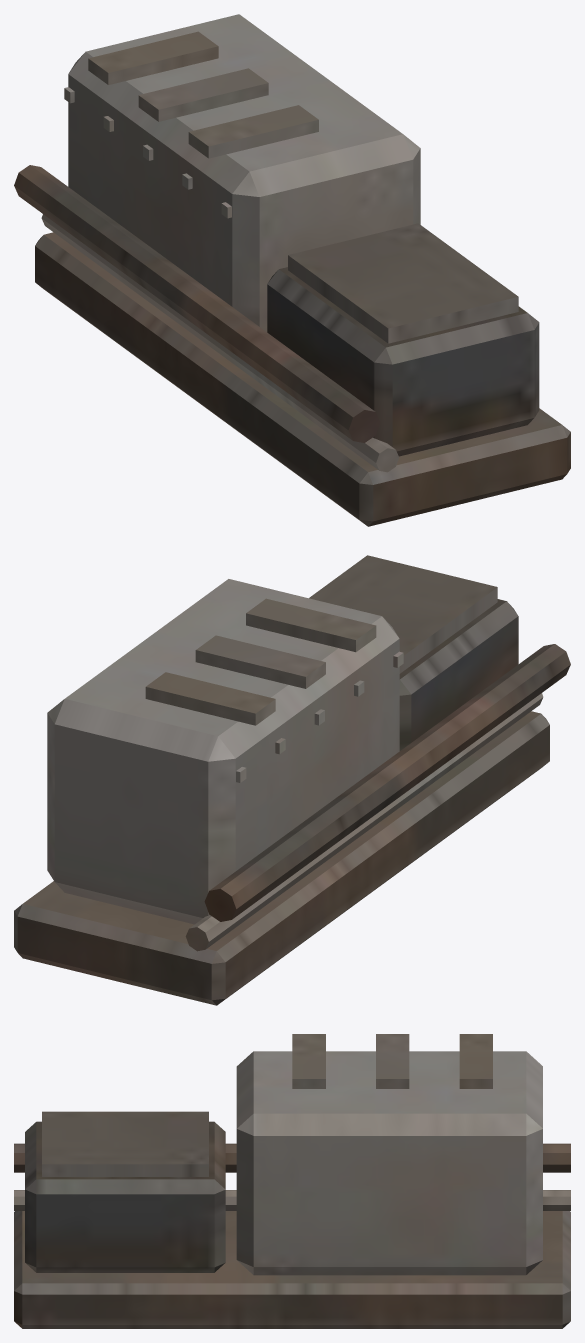
The model's file is cargo-bay-wall-w.glb.
3 views of the same model, one above another, from view 1: azimuth 30°, elevation 25°; view 2: azimuth 150°, elevation 25°; view 3: azimuth 270°, elevation 25° (orthographic). The views are drawn at different scales.
Visible parts, largest first — view 1: body; view 2: body; view 3: body.
Part boxes in pixels (left/top/right/bottom): body: left=14, top=14, right=570, bottom=526; body: left=14, top=555, right=570, bottom=1005; body: left=14, top=1034, right=570, bottom=1328.
Bounding box in the file's own units: 0.785 × 0.86 × 2.
Materials: 1 (1 with a texture image).
